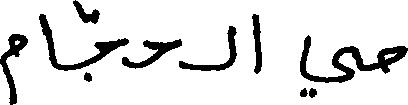X: (300, 30, 357, 102), (94, 4, 127, 71), (0, 29, 26, 104), (144, 35, 178, 71), (377, 41, 407, 78), (40, 9, 55, 72), (252, 9, 261, 78), (228, 21, 235, 72)
